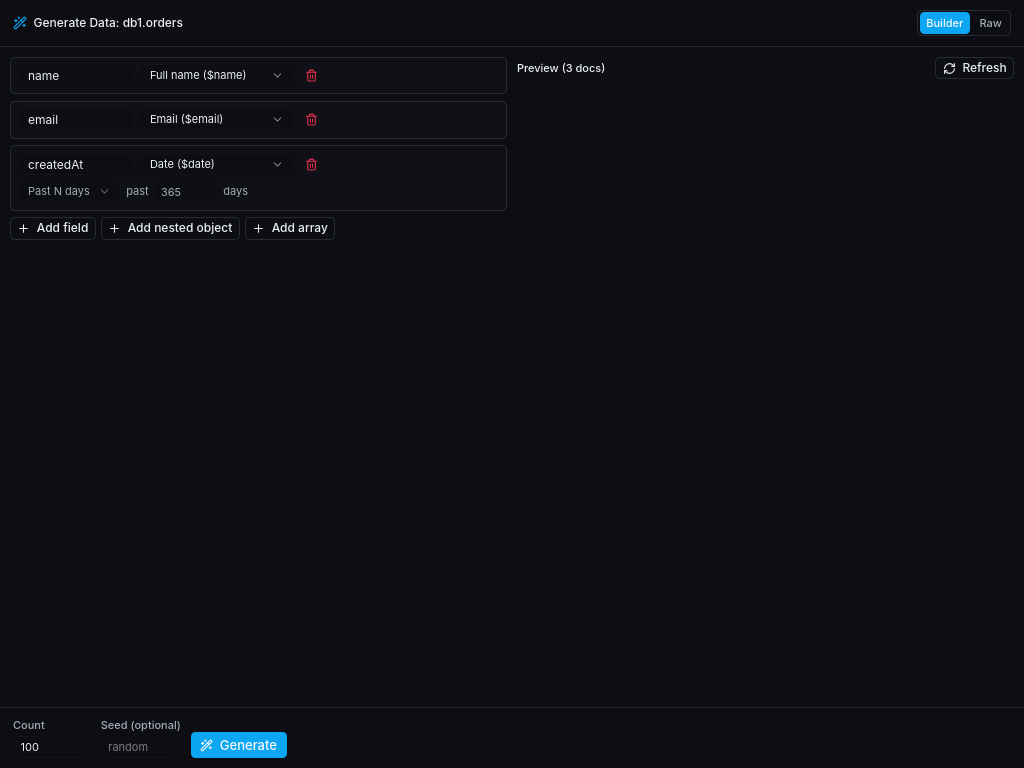
Test case: GenerateView › preview › renders a preview error inline instead of swallowing it
Step 1. Click the button with test id "generate-preview-refresh-btn" → click(975, 68), box [935,57,1014,80]
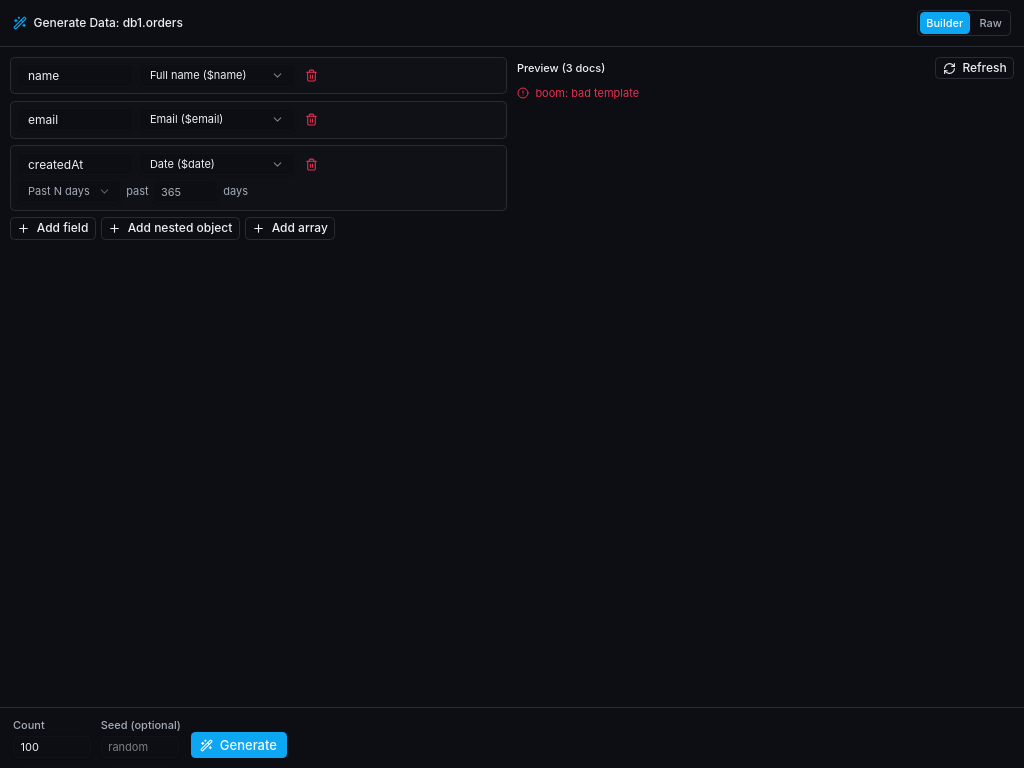
Now the element with test id "generate-preview-error" reads "boom: bad template", box [535,86,639,100]
